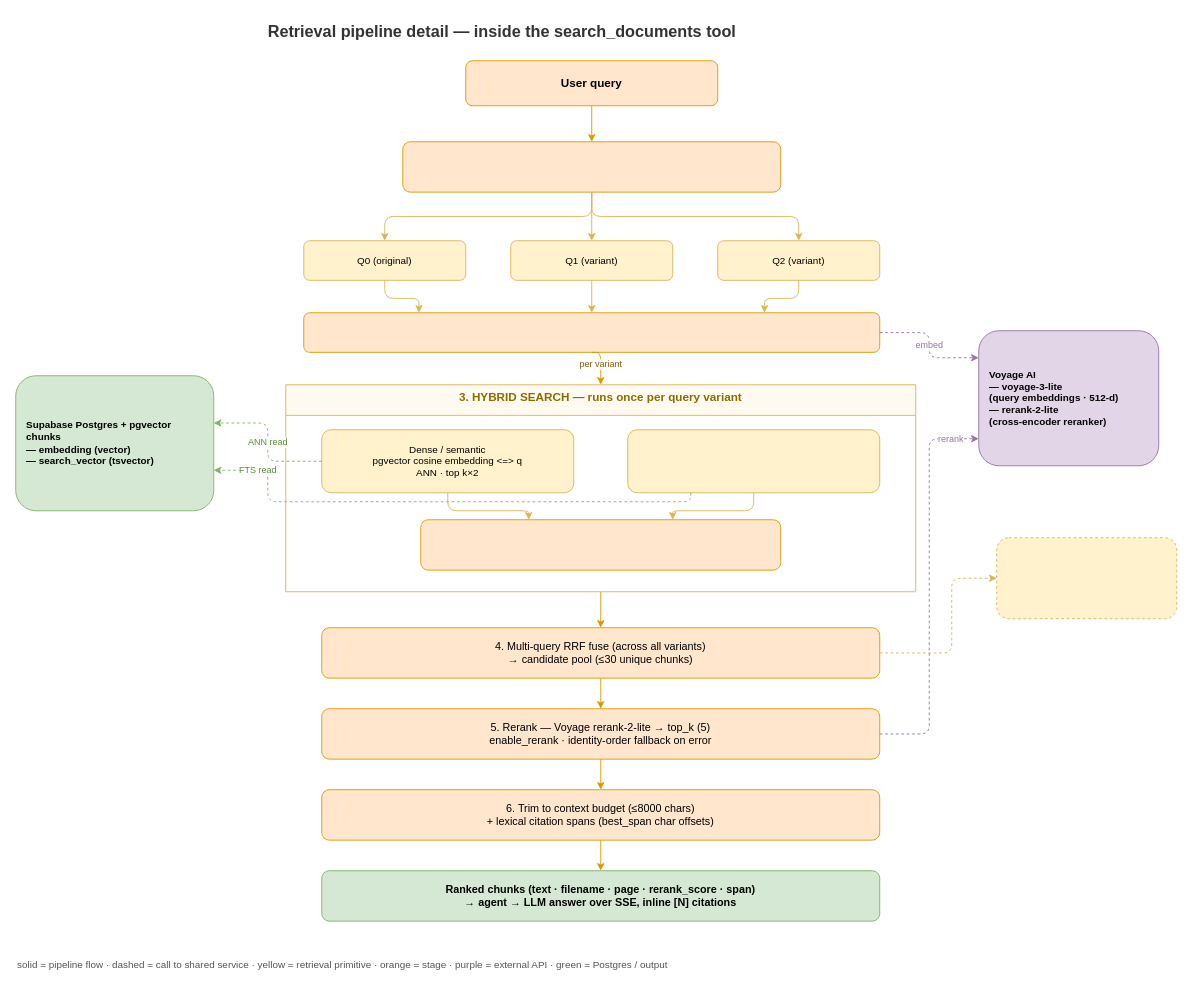
Image size: 1193x994. Some labels were removed from this diagram. The centre of each missing label's shape, as x and y in pixels:
"1. Query rewrite (LLM) enable_query_rewrite → up to 2 paraphrase variants" goes at point (591, 166).
"2. Embed each variant — Voyage voyage-3-lite · input_type=query" goes at point (591, 332).
"RRF merge (k=60) → fused top-k for this variant" goes at point (600, 544).
"RRF score(chunk) = Σ 1/(60 + rank) over every list it appears in" goes at point (1086, 578).
"Sparse / lexical Postgres FTS websearch_to_tsquery ts_rank_cd · top k×2" goes at point (753, 461).
